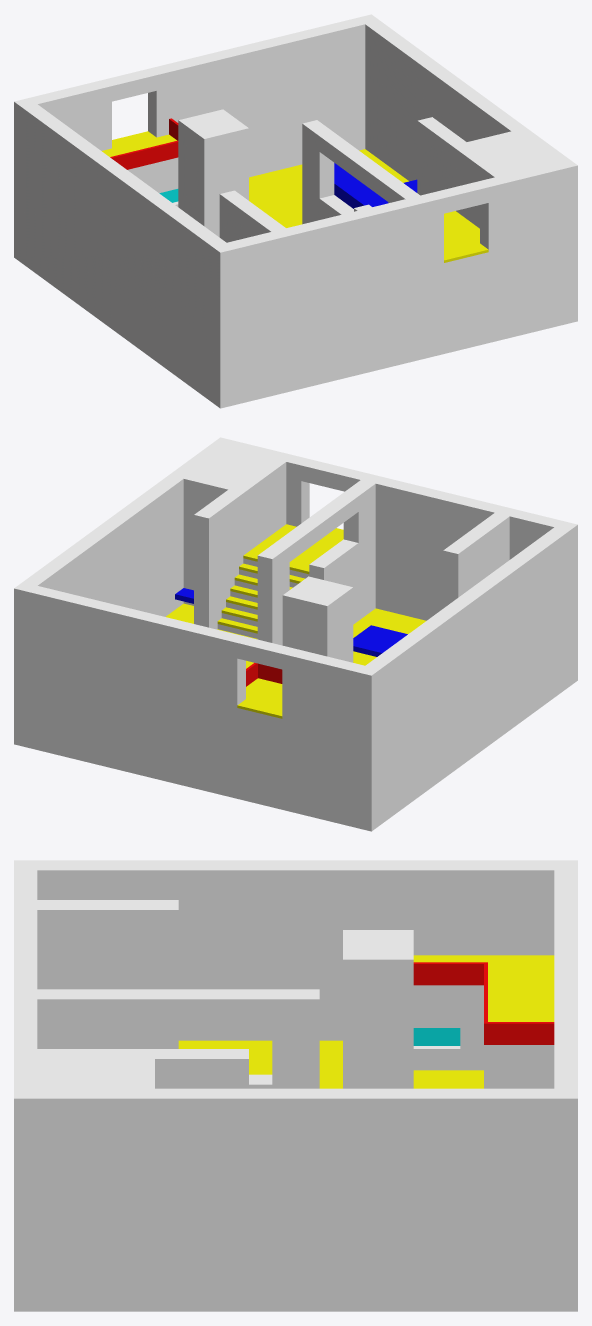
Rendered from room_proto_detailed.obj.
3 renders of one model, top to bottom at view 1: azimuth 30°, elevation 25°; view 2: azimuth 150°, elevation 25°; view 3: azimuth 270°, elevation 25°, orthographic. The views are drawn at different scales.
Size of the model in its own units: 14.4 by 6 by 14.4.
Materials: 1 (1 with a texture image).
